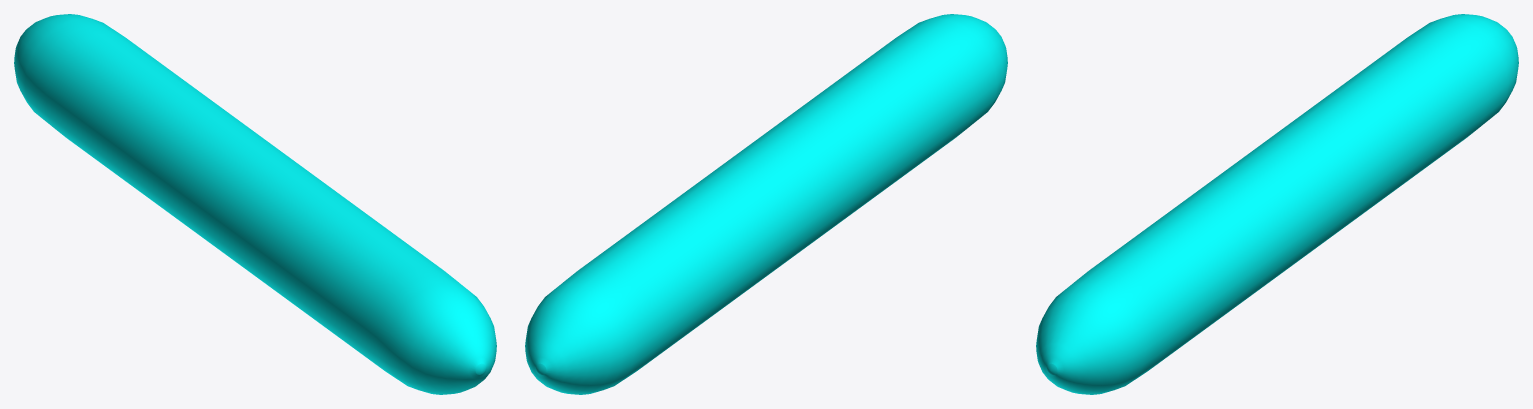
Rendered from ammo2.obj.
The picture shows the model from 3 angles, left to right: view 1: azimuth 30°, elevation 25°; view 2: azimuth 150°, elevation 25°; view 3: azimuth 330°, elevation 25°; orthographic projection.
Parts seen in each view (by area): view 1: ammo_2; view 2: ammo_2; view 3: ammo_2.
Part boxes in pixels (x1,y1,x2,y2): ammo_2: (14,14,496,394); ammo_2: (525,14,1007,394); ammo_2: (1036,14,1518,394).
Size of the model in its own units: 0.1496 by 0.1496 by 1.16.
